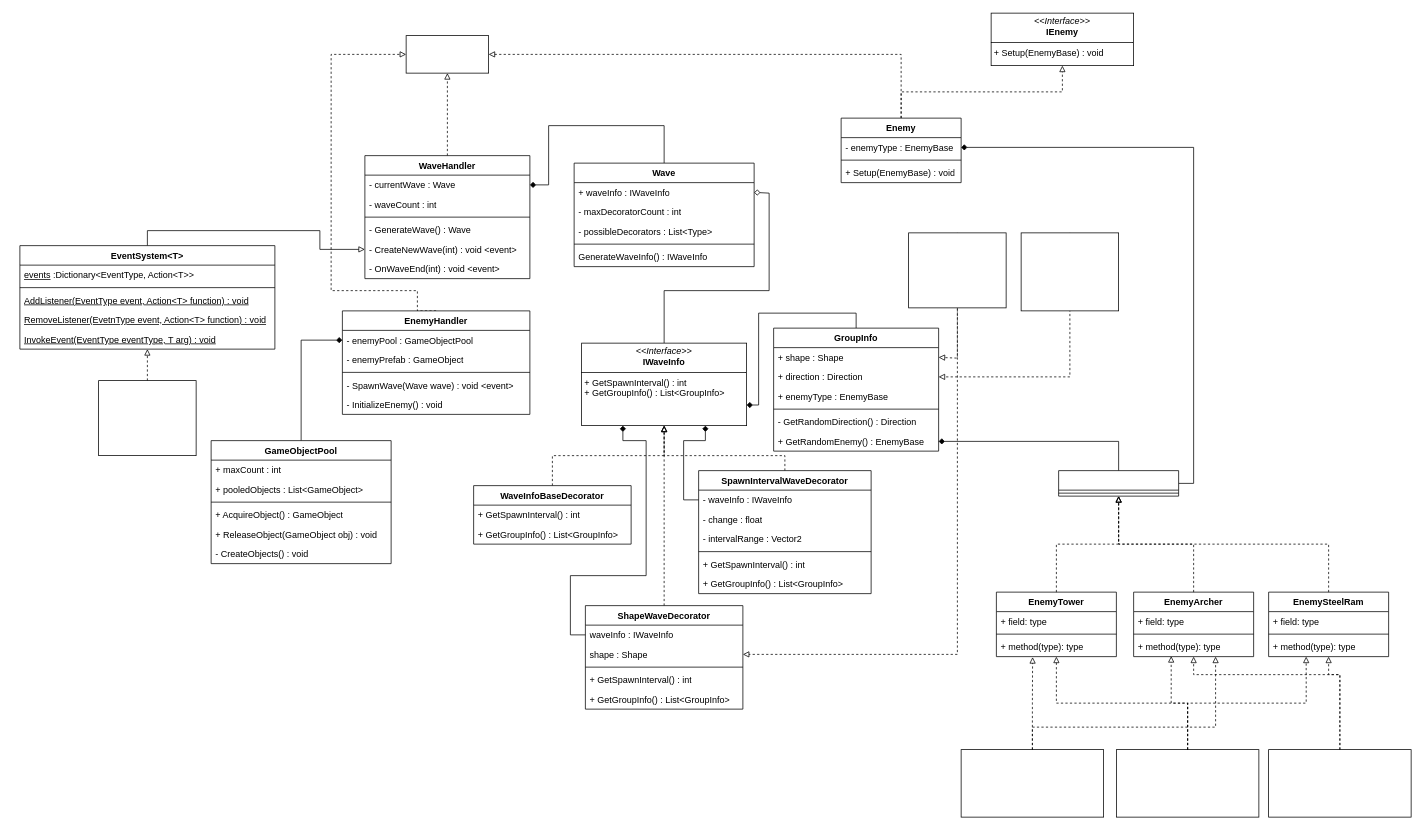
This 1424x830 diagram has some shape labels left out. The shapes that lost their labels are listed below. From the top down, each one's centre as x and y in pixels, then its label:
the point at 447,54: MonoBehaviour
the point at 957,270: <<enumeration>> Shape STAR, SQUARE, [INSERT_SHAPE]
the point at 1069,271: <<enumeration>> Direction NORTH, EAST, SOUTH, WEST
the point at 147,418: <<enumeration>> EventType WAVE_GENERATE, WAVE_START, WAVE_END
the point at 1118,483: EnemyBase
the point at 1032,783: <<Interface>> IDamagable + Health : float <get> + Die() : void
the point at 1187,783: <<Interface>> IAttacker + Damage: float <get> + Attack() : void
the point at 1339,783: <<Interface>> IMover + Speed: float <get> + Move() : void
